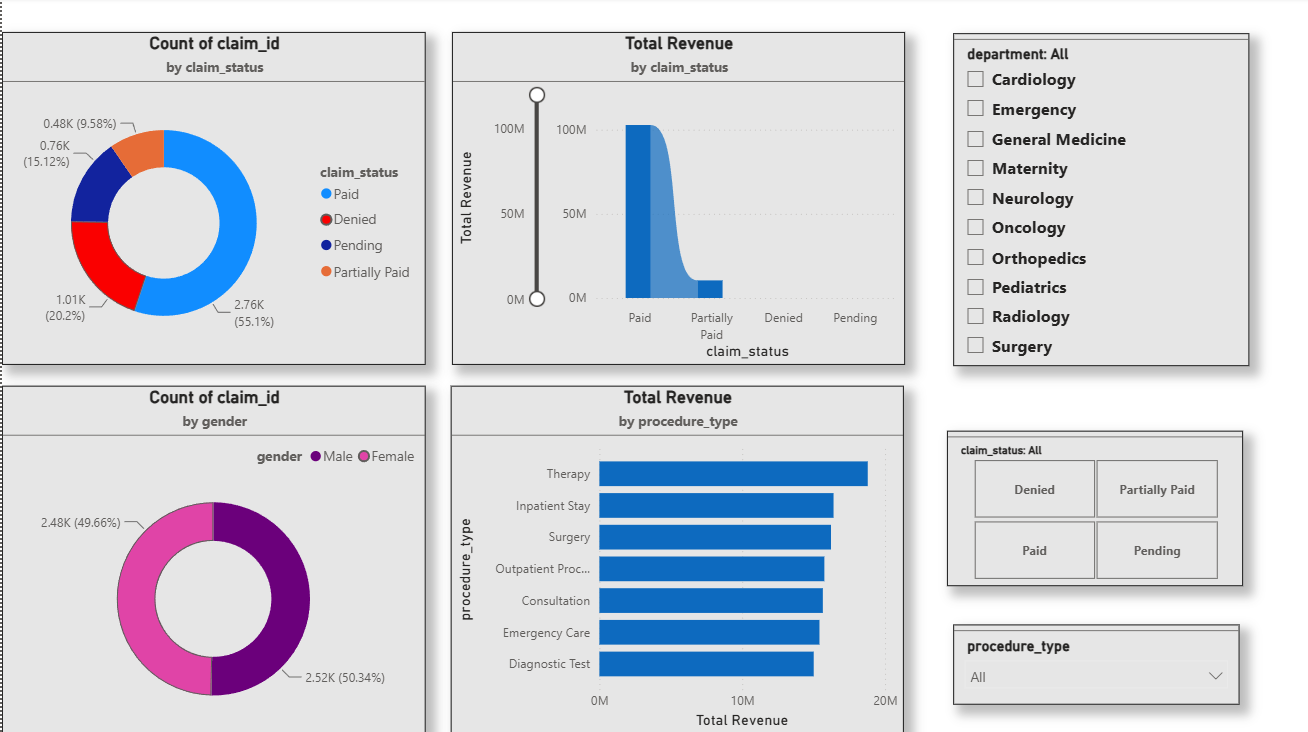

Layout of this report page (visuals, bound fields, positions):
{"tool":"powerbi","page":{"name":"DEP & Claim","canvas":[1280,720],"ordinal":1},"visuals":[{"type":"donutChart","fields":{"Category":["hospital revenue.claim_status"],"Y":["CountNonNull(hospital revenue.claim_id)"]},"box":[0,34.3,414.4,325.2],"z":0},{"type":"ribbonChart","fields":{"Y":["hospital revenue.Total Revenue"],"Category":["hospital revenue.claim_status"]},"box":[440.5,34.3,443.2,325.2],"z":1000},{"type":"donutChart","fields":{"Category":["hospital revenue.gender"],"Y":["CountNonNull(hospital revenue.claim_id)"]},"box":[0,380.1,414.4,340.3],"z":2000},{"type":"clusteredBarChart","fields":{"Category":["hospital revenue.procedure_type"],"Y":["hospital revenue.Total Revenue"]},"box":[439.1,380.1,443.2,340.3],"z":3000},{"type":"slicer","fields":{"Values":["hospital revenue.department"]},"box":[930.4,35.7,289.5,325.2],"z":4000},{"type":"slicer","fields":{"Values":["hospital revenue.claim_status"]},"box":[924.9,424,289.5,152.3],"z":5000},{"type":"slicer","fields":{"Values":["hospital revenue.procedure_type"]},"box":[930.4,613.4,279.9,78.2],"z":6000}]}

Visuals, with their boxes in screenshot pixels (x1, y1, x2, y2), scaled from the page's 1280x720 canvas onto the 1308x732 screenshot:
donutChart - hospital revenue.claim_status x CountNonNull(hospital revenue.claim_id): left=0, top=35, right=423, bottom=365
ribbonChart - hospital revenue.Total Revenue x hospital revenue.claim_status: left=450, top=35, right=903, bottom=365
donutChart - hospital revenue.gender x CountNonNull(hospital revenue.claim_id): left=0, top=386, right=423, bottom=731
clusteredBarChart - hospital revenue.procedure_type x hospital revenue.Total Revenue: left=449, top=386, right=902, bottom=731
slicer - hospital revenue.department: left=951, top=36, right=1247, bottom=367
slicer - hospital revenue.claim_status: left=945, top=431, right=1241, bottom=586
slicer - hospital revenue.procedure_type: left=951, top=624, right=1237, bottom=703
